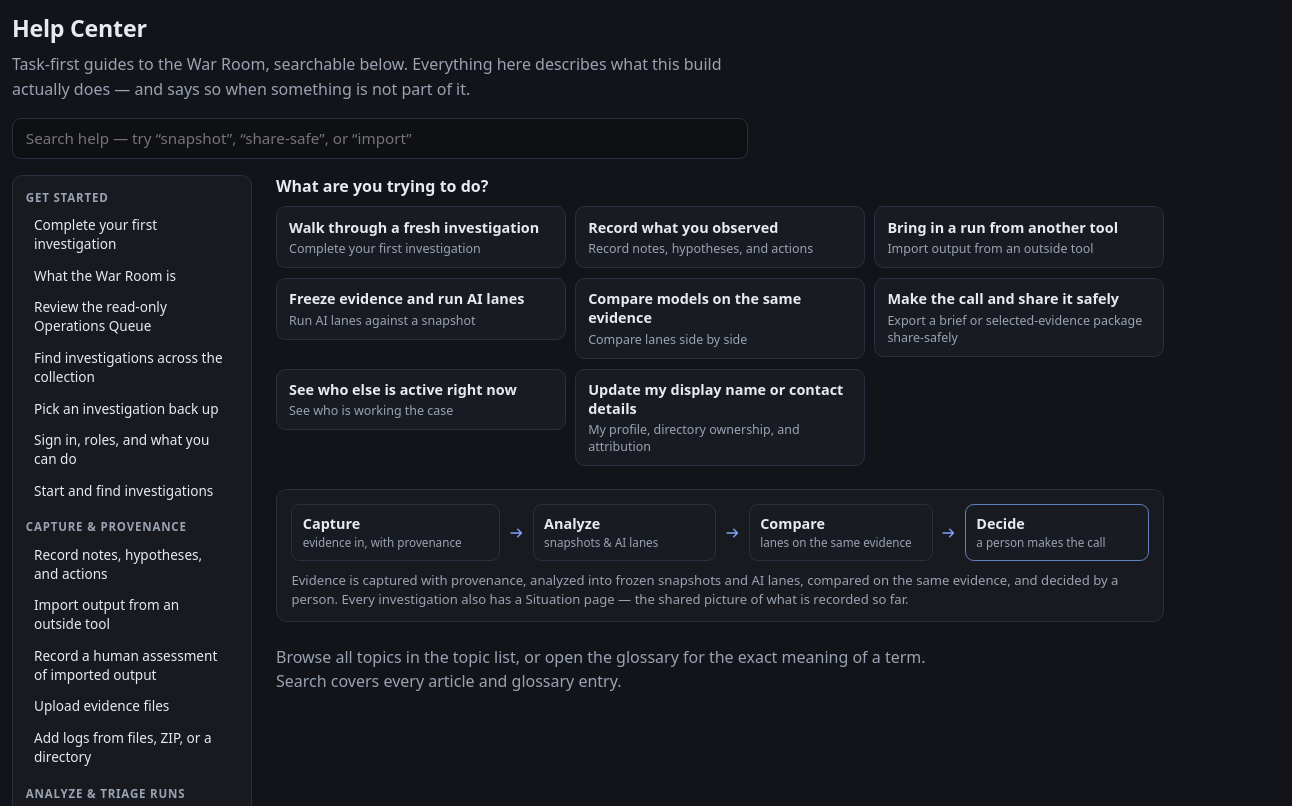
Test: help search › states an honest no-results outcome and what search does not cover
The image size is (1292, 806).
Type "zzzunfindable" into the search field labelled "Search help".
click(380, 138); type("zzzunfindable")  # box [12,118,748,159]
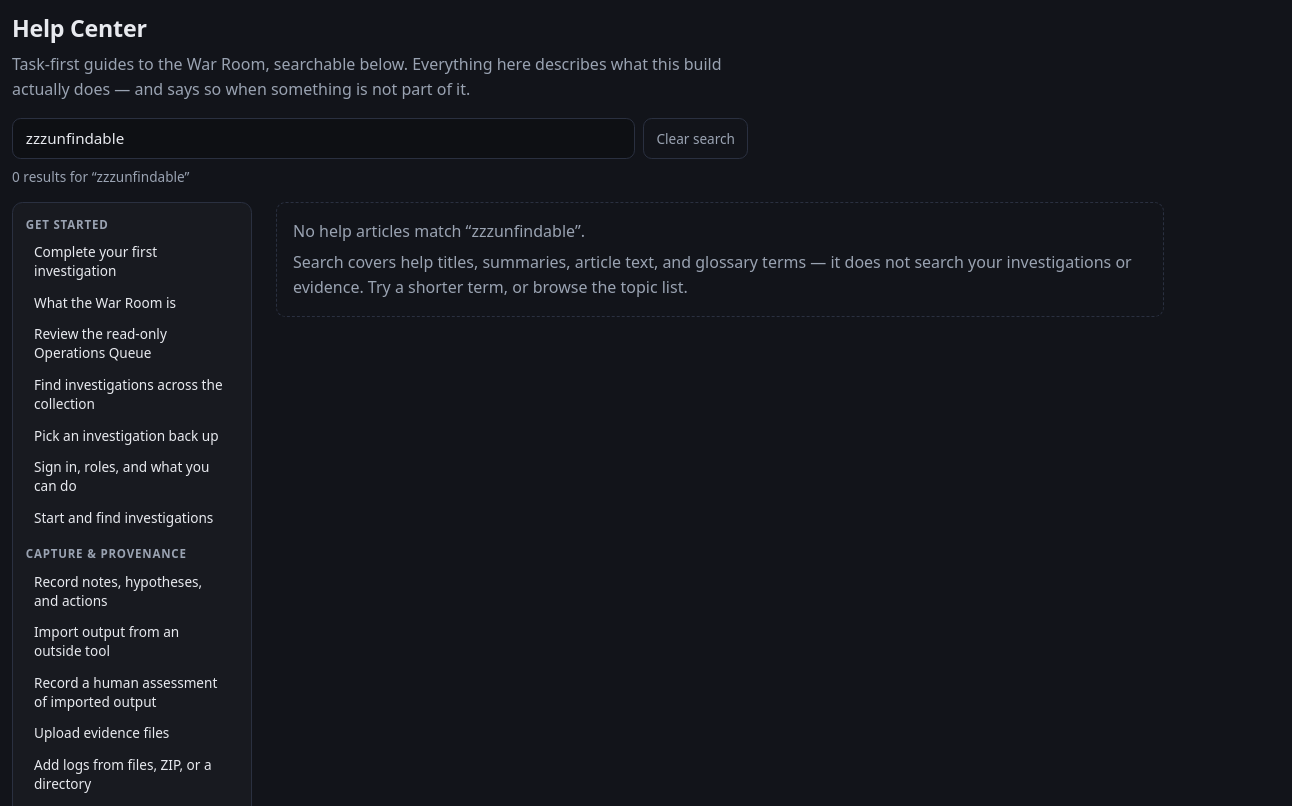
Expected: the message reads "0 results for “zzzunfindable”", [12,167,190,186]
Expected: the text "No help articles match “zzzunfindable”." is shown, [293,220,585,242]
Expected: the text "does not search your investigations or evidence" is shown, [293,251,1132,298]
